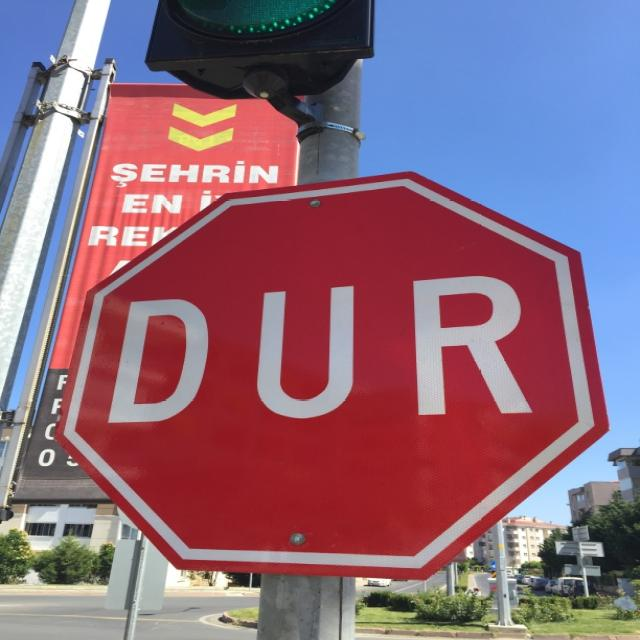dur: (55, 172, 613, 580)
